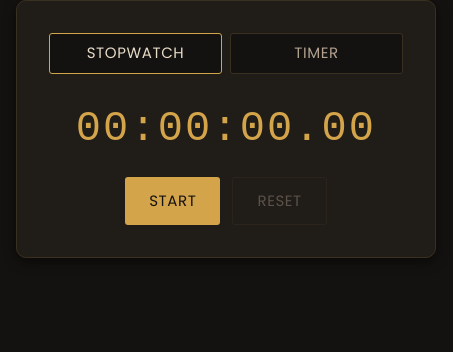
it: Stopwatch — stopwatch mode › logs the time to history on reset and zeroes the display
Step 1. Click the button "Start" → (173, 201), box left=125, top=176, right=220, bottom=225
Wait 2000 ms
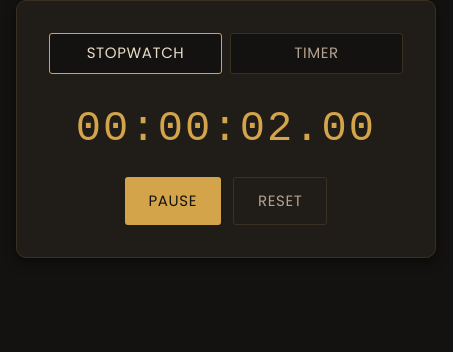
Step 2. Click the button "Pause" → (173, 201), box left=125, top=176, right=221, bottom=225
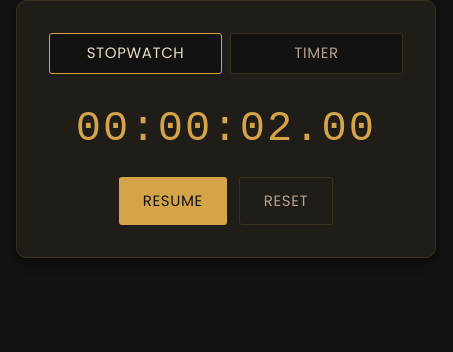
Step 3. Click the button "Reset" → (286, 201), box left=239, top=176, right=333, bottom=225
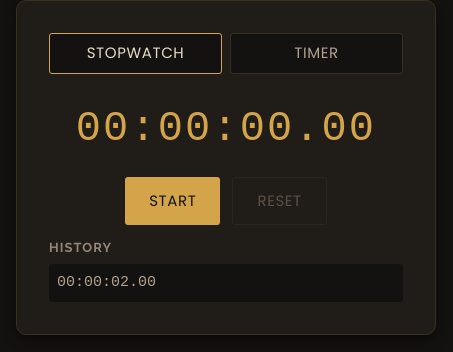
Now the list item "00:00:02.00" is shown, box left=49, top=264, right=403, bottom=302
Now the text with class "stopwatch-display" reads "00:00:00.00", box left=76, top=104, right=376, bottom=152
Now the heading "History" is shown, box left=49, top=240, right=112, bottom=255
